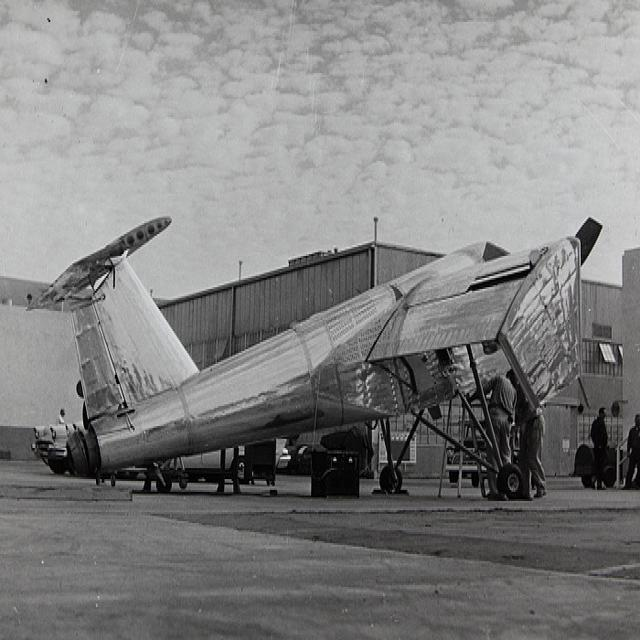Vehicle: (154, 446, 251, 484), (447, 420, 488, 488), (32, 424, 68, 474), (284, 443, 322, 478)
